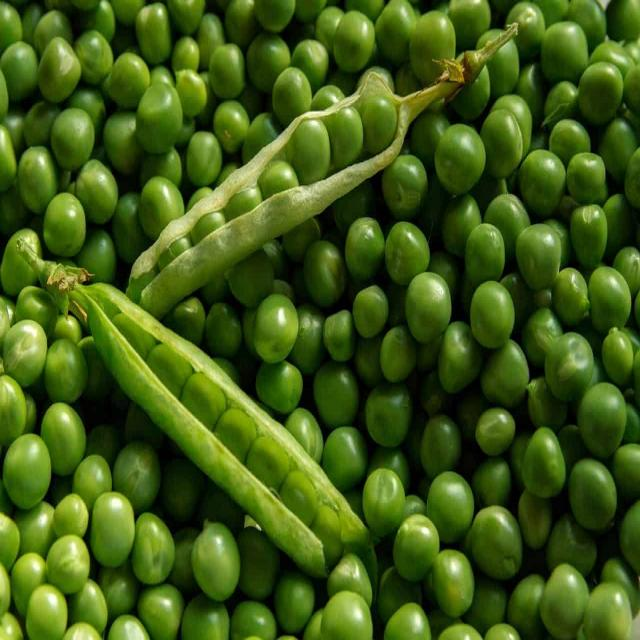Peas: (378, 159, 640, 640), (257, 228, 433, 476), (0, 0, 186, 234), (0, 388, 133, 640), (289, 82, 398, 172)
